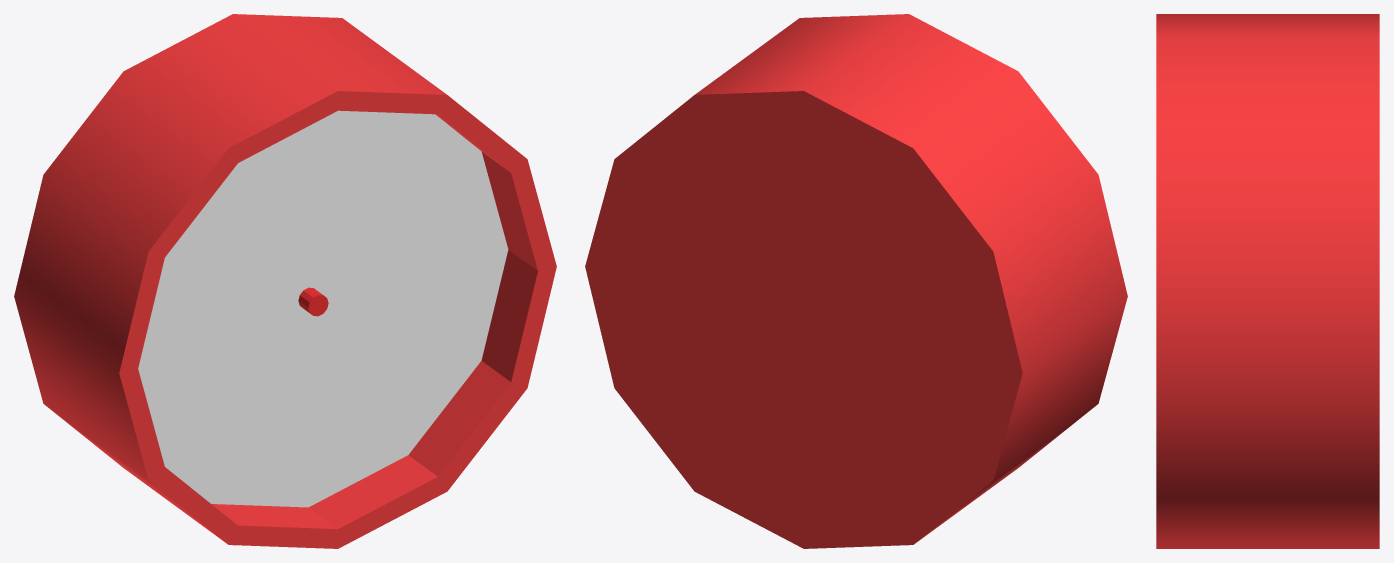
The model's file is Itr_Obj_Alarmclcok_Body_05.FBX.
3 renders of one model, left to right at view 1: azimuth 30°, elevation 25°; view 2: azimuth 150°, elevation 25°; view 3: azimuth 270°, elevation 25°, orthographic. The views are drawn at different scales.
Parts seen in each view (by area): view 1: Itr_Obj_Alarmclcok_Body_05; view 2: Itr_Obj_Alarmclcok_Body_05; view 3: Itr_Obj_Alarmclcok_Body_05.
Part boxes in pixels (<box>): Itr_Obj_Alarmclcok_Body_05: <box>14,14,556,548</box>; Itr_Obj_Alarmclcok_Body_05: <box>585,14,1127,548</box>; Itr_Obj_Alarmclcok_Body_05: <box>1156,14,1379,548</box>.
Bounding box in the file's own units: 3.87 × 3.87 × 1.61.
